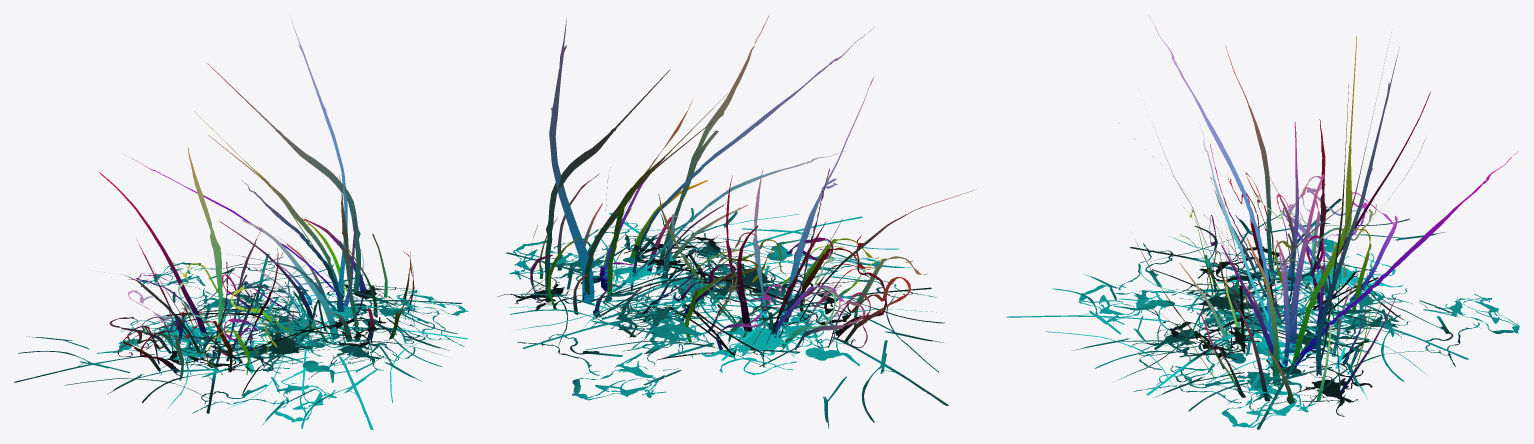
File: Wild_Grass_vczndjqja_Raw_vczndjqja_VarB_LOD0.fbx
3 renders of one model, left to right at view 1: azimuth 30°, elevation 25°; view 2: azimuth 150°, elevation 25°; view 3: azimuth 270°, elevation 25°, orthographic. The views are drawn at different scales.
Parts seen in each view (by area): view 1: _ov2c_VarB_High; view 2: _ov2c_VarB_High; view 3: _ov2c_VarB_High.
Boxes of the visible parts, x1,y1,x2,y2 form: _ov2c_VarB_High: (14,17,468,429); _ov2c_VarB_High: (497,15,976,428); _ov2c_VarB_High: (1006,15,1519,429).
Size of the model in its own units: 63.31 by 40.78 by 58.2.
